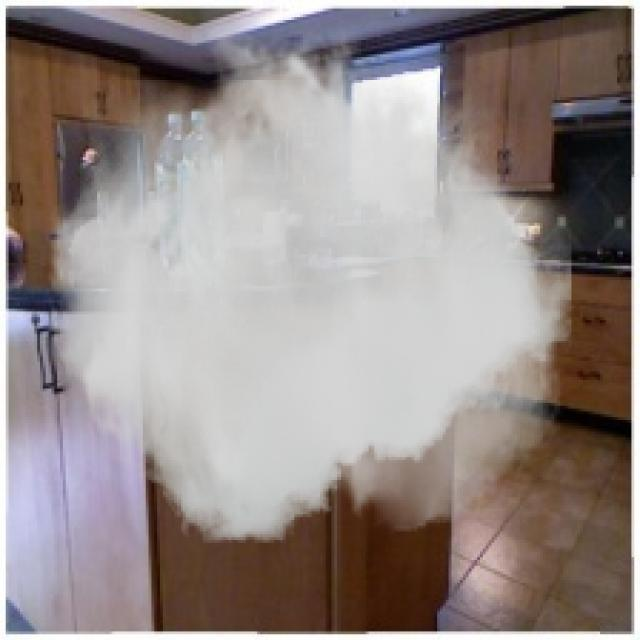Smoke: (42, 14, 572, 543)
